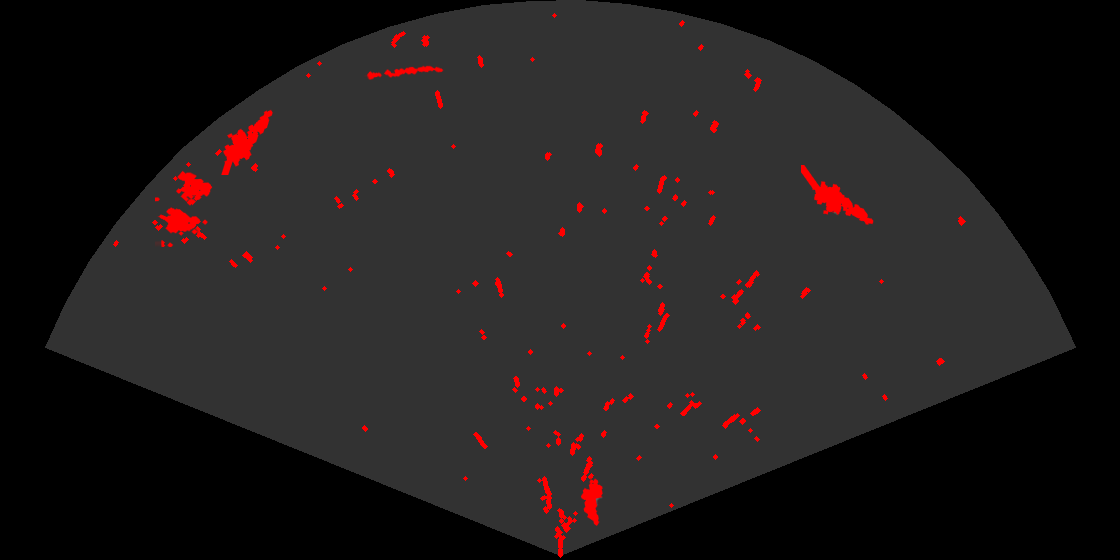AUV: (579, 477, 604, 528)
cage: (155, 169, 214, 247)
chain: (364, 64, 445, 81)
frogman: (801, 165, 875, 226), (220, 108, 274, 175)
